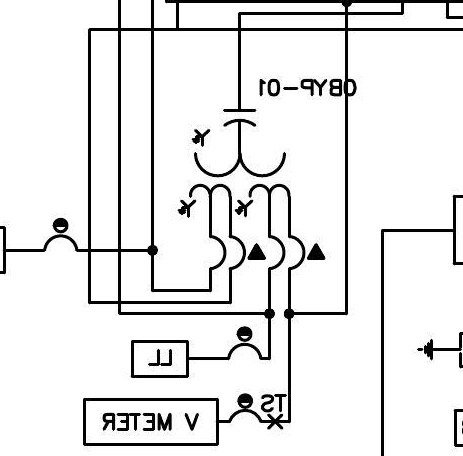115_cvt_3p: (177, 108, 327, 272)
LL: (130, 339, 190, 379)
v_m_digital: (82, 397, 220, 447)
